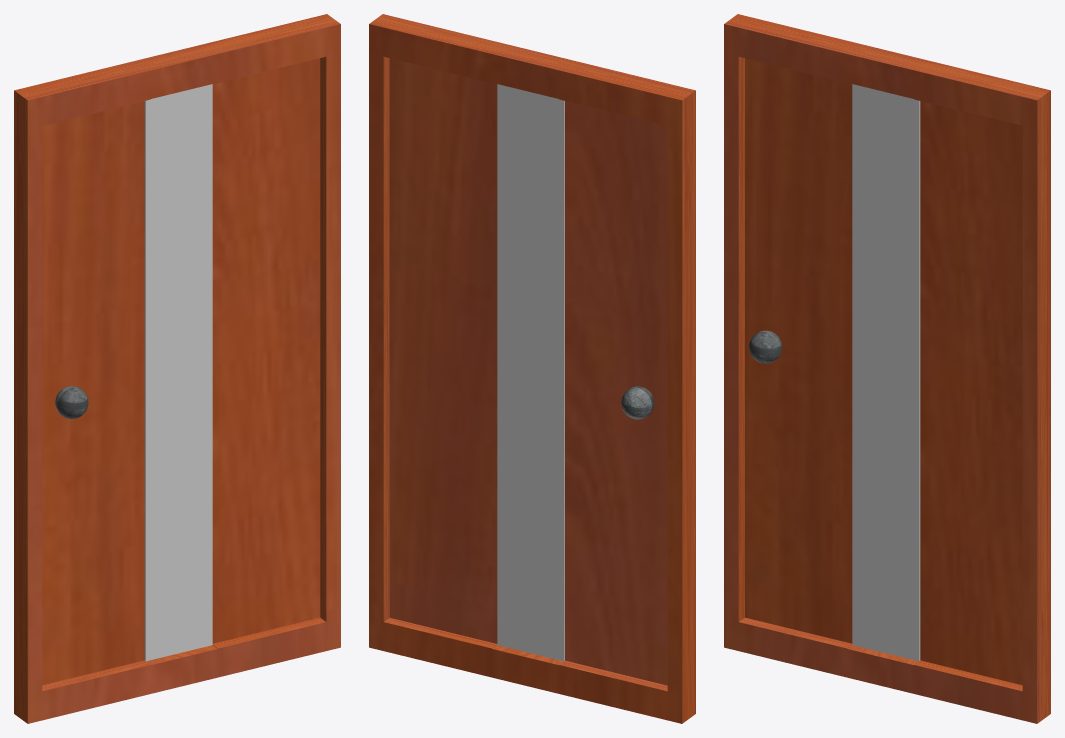
File: ORANGE DOOR WITH GLASS IN THE MIDDLE.glb
The picture shows the model from 3 angles, left to right: view 1: azimuth 30°, elevation 25°; view 2: azimuth 150°, elevation 25°; view 3: azimuth 330°, elevation 25°; orthographic projection.
Visible parts, largest first — view 1: BODY, Cubo, SHEET METAL; view 2: BODY, Cubo, SHEET METAL; view 3: BODY, Cubo, SHEET METAL.
Part boxes in pixels (x1,y1,x2,y2): BODY: (14, 14, 340, 723); Cubo: (144, 84, 212, 661); SHEET METAL: (55, 386, 88, 419); BODY: (369, 14, 695, 723); Cubo: (497, 84, 564, 661); SHEET METAL: (621, 386, 654, 419); BODY: (724, 14, 1050, 723); Cubo: (852, 84, 920, 661); SHEET METAL: (749, 330, 781, 363).
Bounding box in the file's own units: 2.12 × 4.04 × 0.3883.
3 materials, 2 textured.
